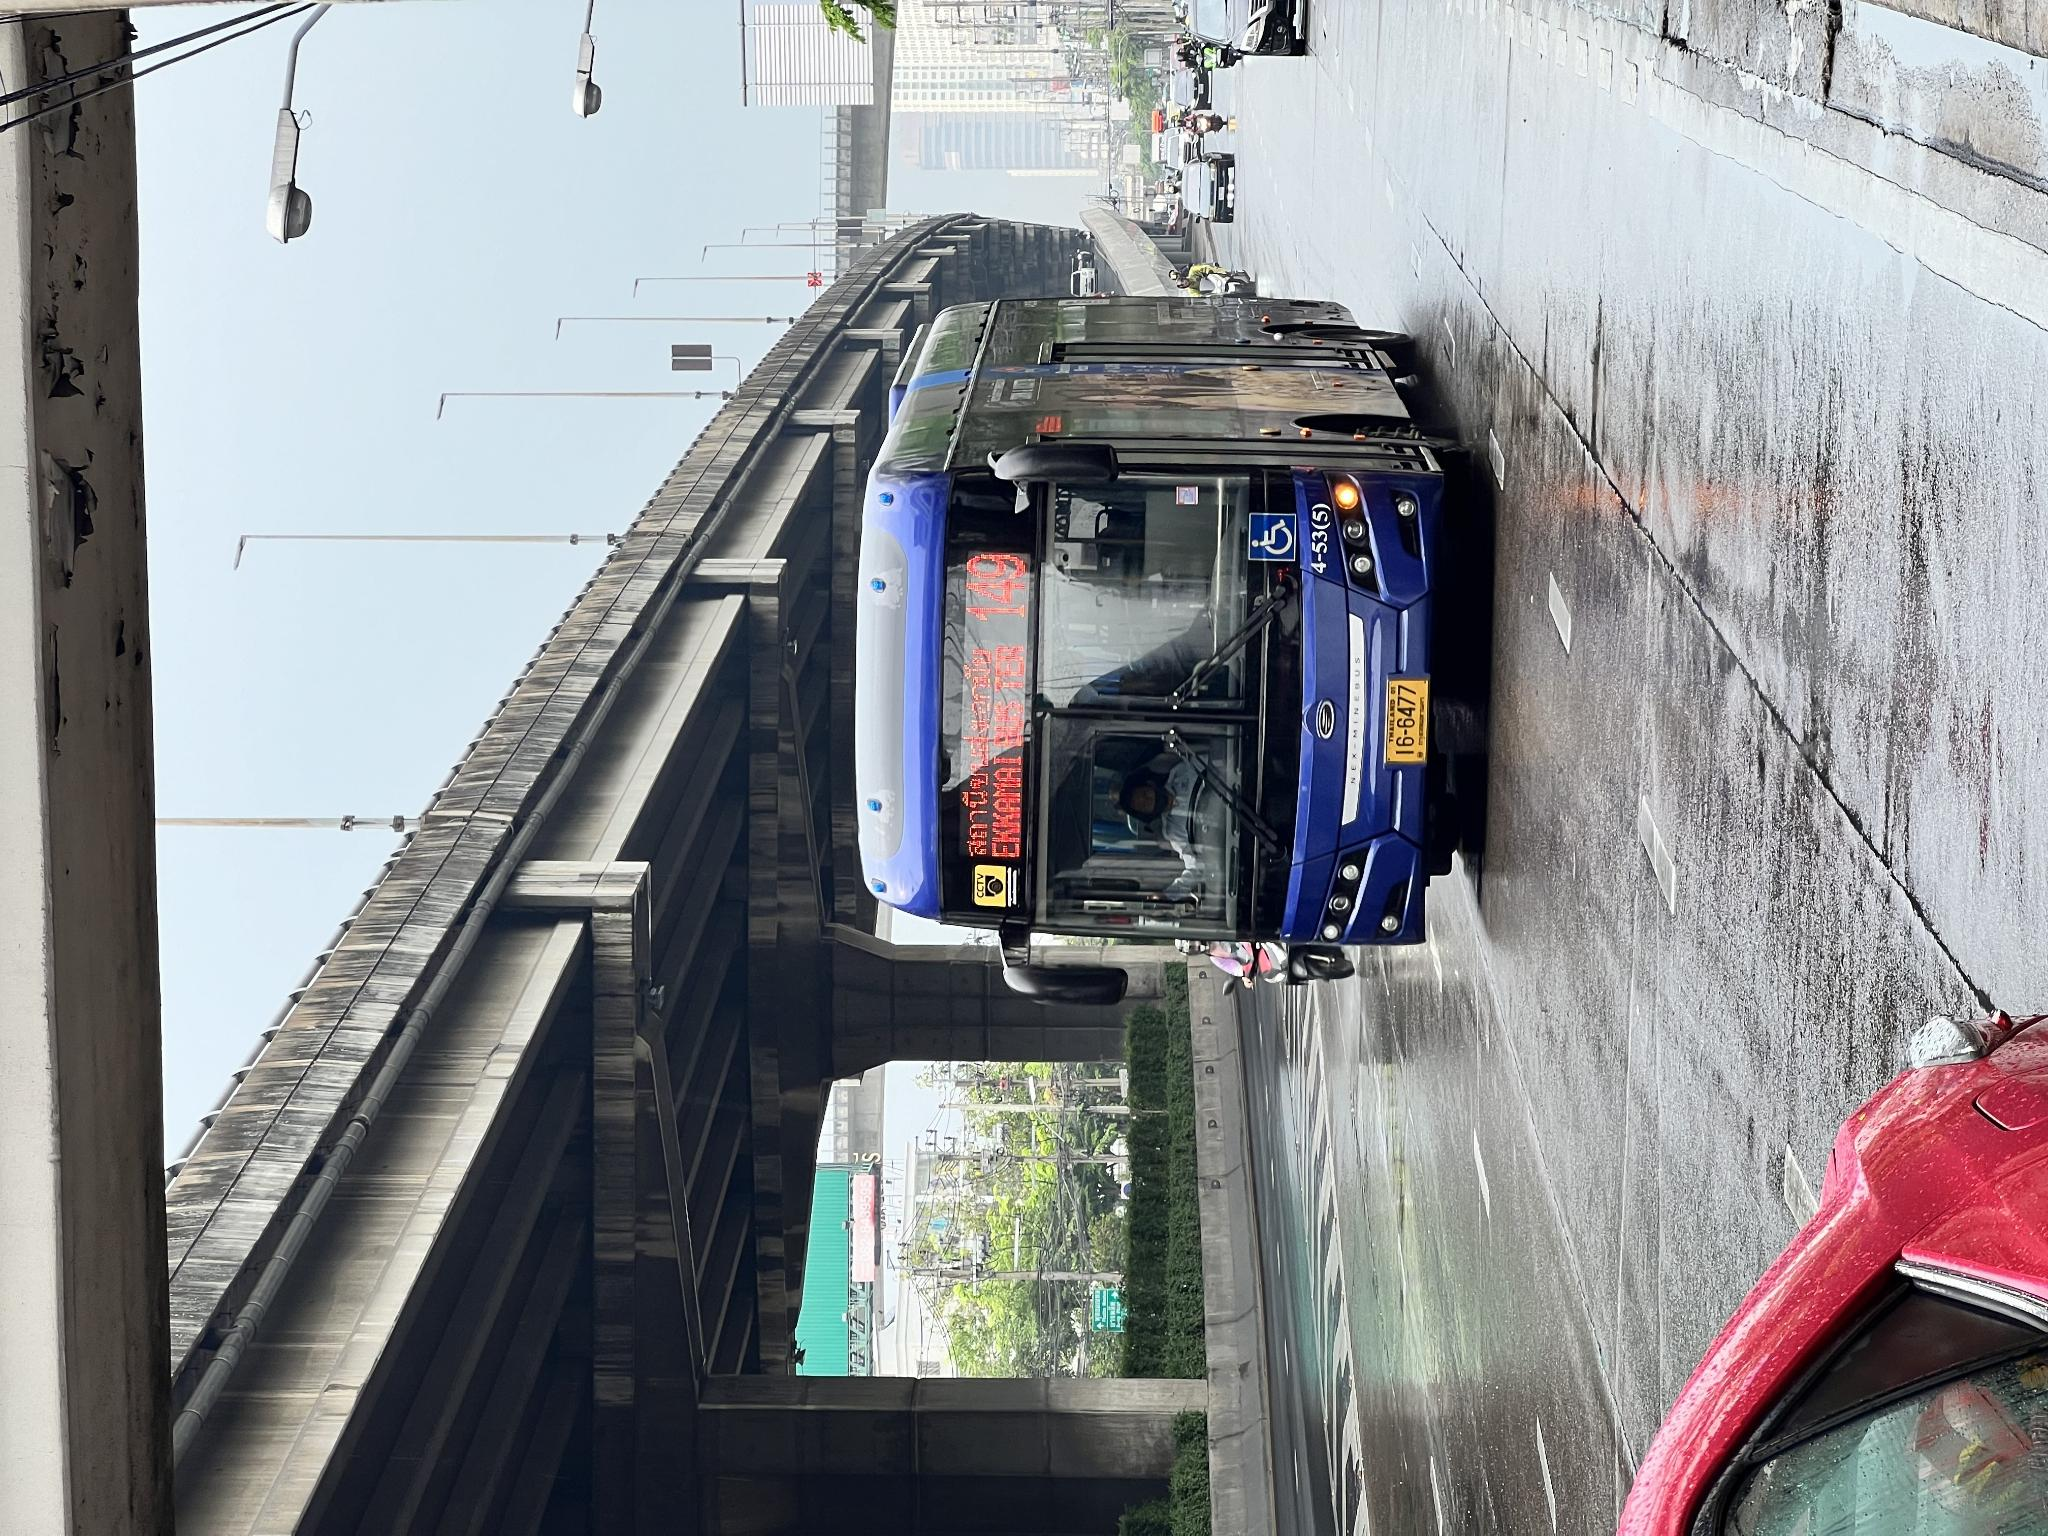Bus Line Number: (906, 950, 998, 1041)
Bus Side Number: (955, 1304, 1035, 1334)
Destination Sign: (668, 955, 895, 1034)
TSB-Bus: (574, 854, 1245, 1475)
